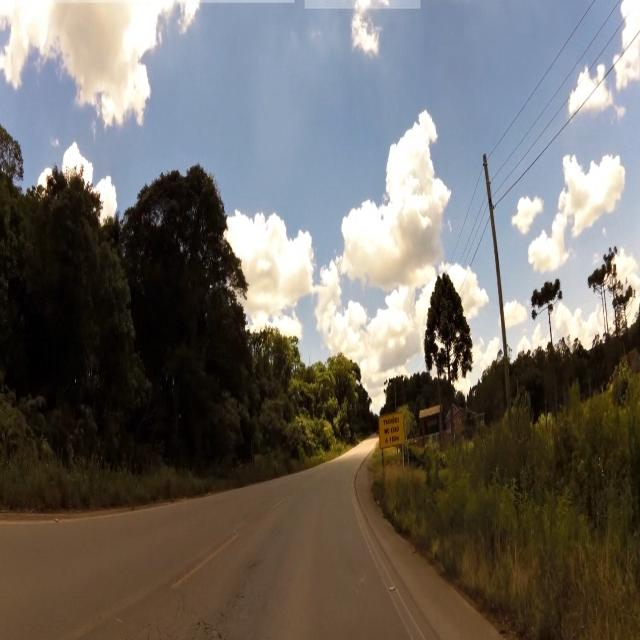ESP-20: (380, 413, 404, 448)
